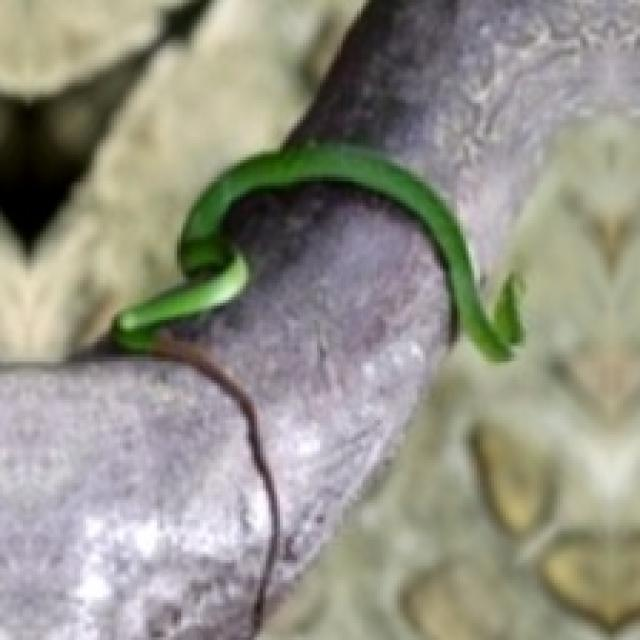red-tailed green ratsnake: (111, 140, 520, 629), (111, 140, 520, 357)
